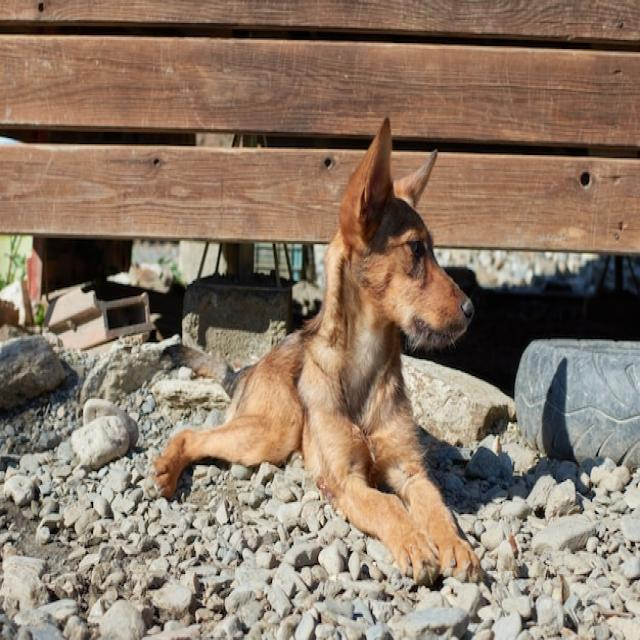laying down: (143, 109, 500, 590)
